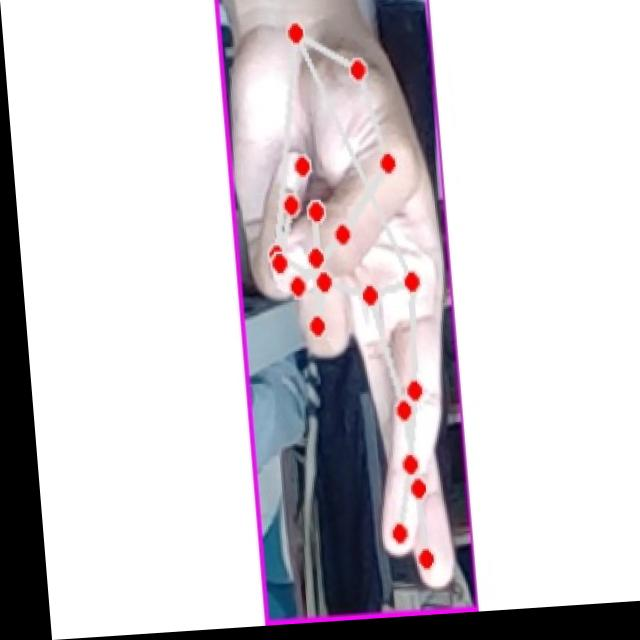R: (228, 4, 454, 606)
